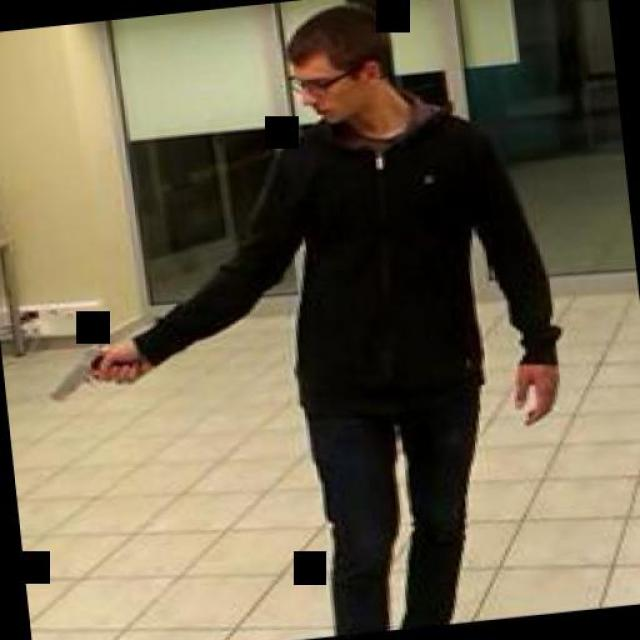gun: (39, 337, 141, 405)
